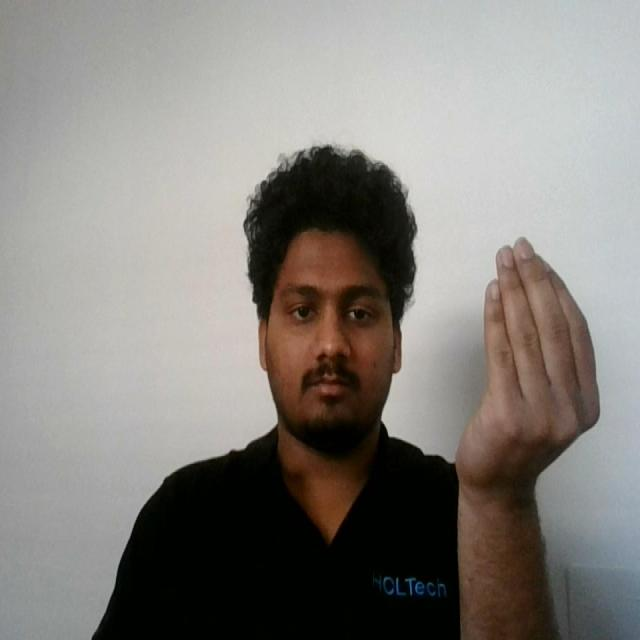Please: (450, 230, 611, 506)
